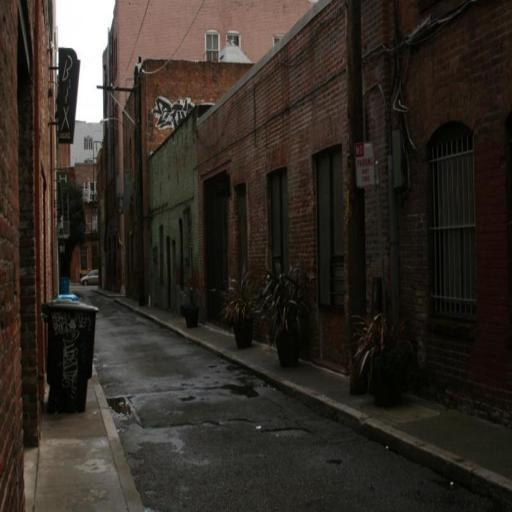trash-can: (42, 289, 106, 414)
